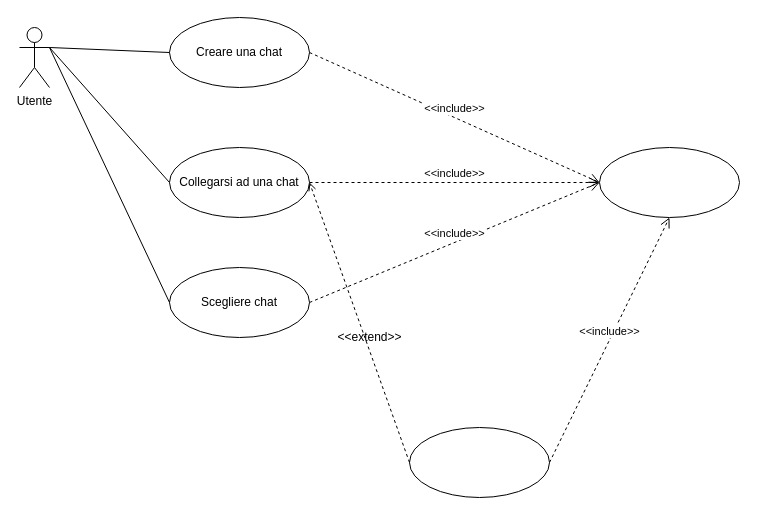
Image size: 757x515. Some labels were removed from this diagram. The box of each missing label's shape, as (x1, y1, x2, y2) in pixels:
Inviare messaggi in una chat: (408, 426, 550, 498)
Login: (598, 146, 740, 218)
